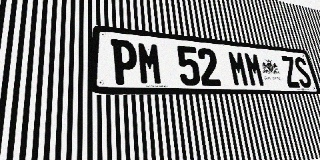2: (197, 47, 221, 86)
5: (176, 45, 202, 86)
M: (137, 41, 164, 85), (227, 50, 250, 87), (243, 52, 266, 87)
P: (111, 39, 139, 85)
S: (293, 57, 313, 88)
Z: (280, 55, 301, 88)
